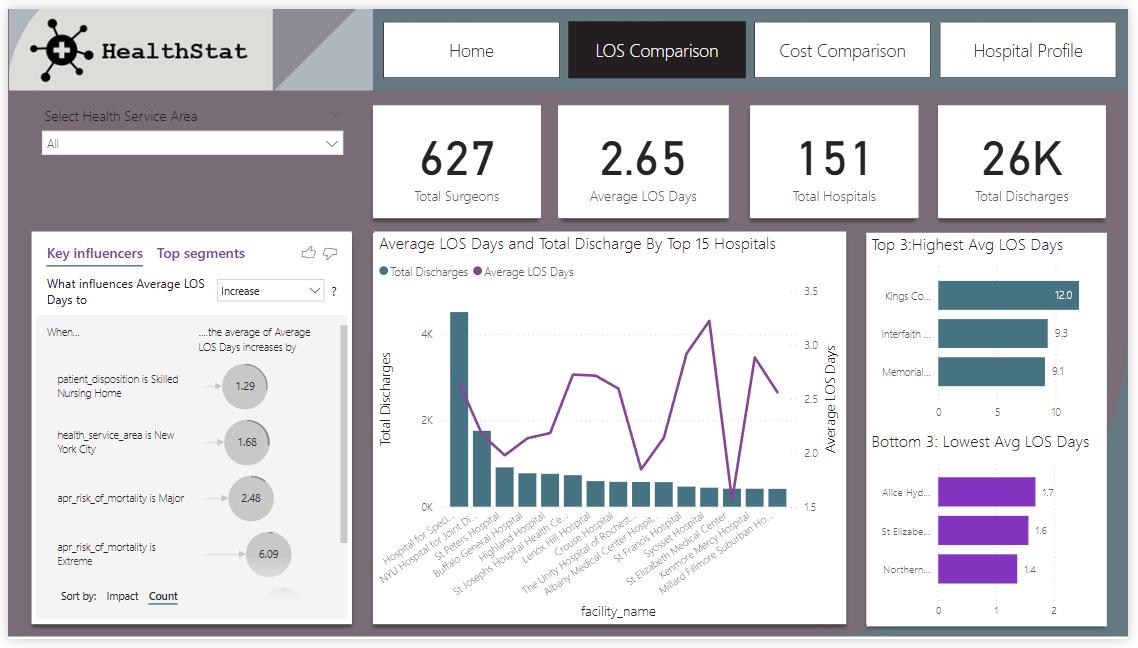

Layout of this report page (visuals, bound fields, positions):
{"tool":"powerbi","page":{"name":"LOS Comparison ","canvas":[1280,720],"ordinal":1},"visuals":[{"type":"lineStackedColumnComboChart","title":"Average LOS Days and Total Discharge By Top 15 Hospitals","fields":{"Category":["hospital_discharges.facility_name"],"Y":["__Measures.Total Discharges"],"Y2":["__Measures.Average LOS Days"]},"box":[418.1,254.7,539.5,448.1],"z":0},{"type":"card","fields":{"Values":["__Measures.Total Surgeons"]},"box":[416.6,109.4,191.8,128.9],"z":1000},{"type":"slicer","fields":{"Values":["hospital_discharges.health_service_area"]},"box":[28.5,106.4,364.1,127.4],"z":2000},{"type":"card","fields":{"Values":["__Measures.Average LOS Days"]},"box":[627.9,109.4,194.8,128.9],"z":3000},{"type":"card","fields":{"Values":["__Measures.Total Hospitals"]},"box":[848.2,109.4,191.8,128.9],"z":4000},{"type":"card","fields":{"Values":["__Measures.Total Discharges"]},"box":[1062.4,109.4,191.8,128.9],"z":5000},{"type":"keyDriversVisual","fields":{"Target":["__Measures.Average LOS Days"],"ExplainBy":["hospital_discharges.apr_risk_of_mortality","hospital_discharges.apr_severity_of_illness_description","hospital_discharges.ccs_diagnosis_description","hospital_discharges.patient_disposition","hospital_discharges.gender","hospital_discharges.Age Bins","Surgical_program_size_summery.Surgical Program Size","hospital_discharges.health_service_area"]},"box":[27,254.7,365.6,448.1],"z":6000},{"type":"clusteredBarChart","title":"Top 3:Highest Avg LOS Days","fields":{"Category":["hospital_discharges.facility_name"],"Y":["__Measures.Average LOS Days"]},"box":[981.2,255.6,274.2,223.8],"z":7000},{"type":"clusteredBarChart","title":"Bottom 3: Lowest Avg LOS Days","fields":{"Category":["hospital_discharges.facility_name"],"Y":["__Measures.Average LOS Days"]},"box":[981,479.4,274.6,225.4],"z":8000},{"type":"pageNavigator","box":[428.6,14.3,838.1,65.1],"z":8001}]}

Visuals, with their boxes in screenshot pixels (x1, y1, x2, y2), scaled from the page's 1280x720 canvas onto the 1138x648 screenshot:
"Average LOS Days and Total Discharge By Top 15 Hospitals" lineStackedColumnComboChart: rect(372, 229, 851, 633)
card - __Measures.Total Surgeons: rect(370, 98, 541, 214)
slicer - hospital_discharges.health_service_area: rect(25, 96, 349, 210)
card - __Measures.Average LOS Days: rect(558, 98, 731, 214)
card - __Measures.Total Hospitals: rect(754, 98, 925, 214)
card - __Measures.Total Discharges: rect(945, 98, 1115, 214)
keyDriversVisual - __Measures.Average LOS Days x hospital_discharges.apr_risk_of_mortality: rect(24, 229, 349, 633)
"Top 3:Highest Avg LOS Days" clusteredBarChart: rect(872, 230, 1116, 431)
"Bottom 3: Lowest Avg LOS Days" clusteredBarChart: rect(872, 431, 1116, 634)
pageNavigator: rect(381, 13, 1126, 71)
